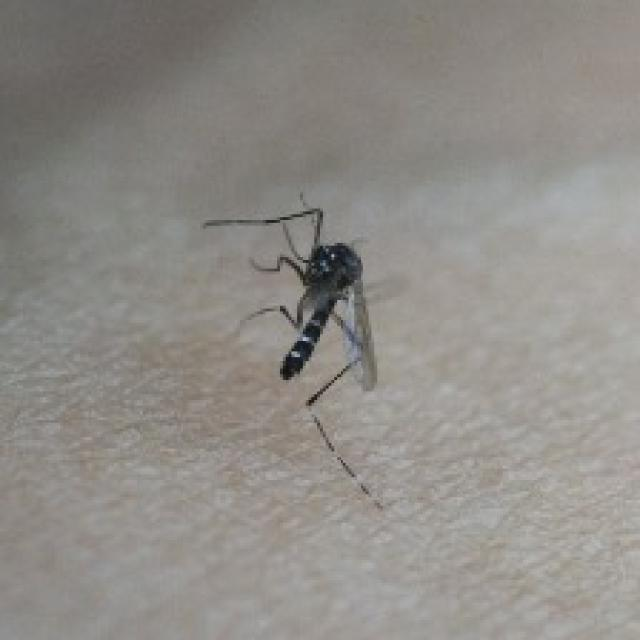aedes: (197, 192, 389, 512)
